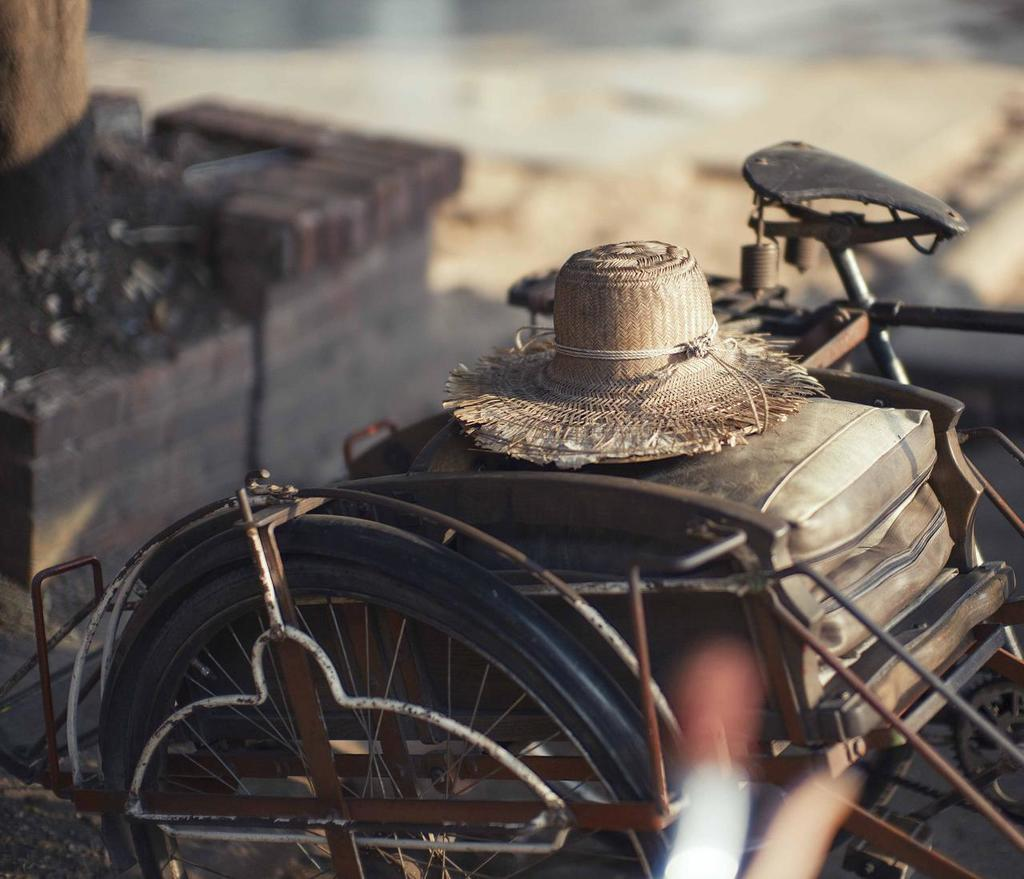Hat: (442, 234, 836, 465)
